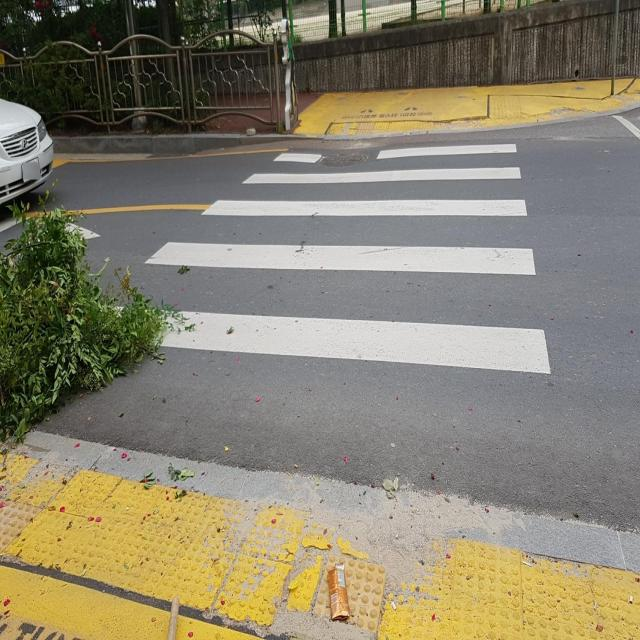횡단보도: (110, 138, 555, 382)
